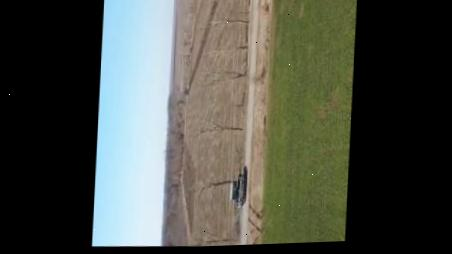rszo: (229, 172, 247, 208)
